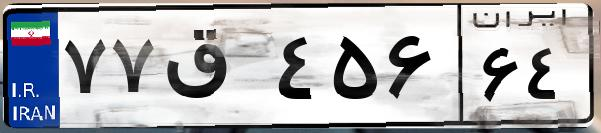4: (270, 28, 330, 110), (525, 38, 570, 115)
5: (330, 28, 385, 110)
6: (385, 28, 445, 110), (475, 38, 525, 113)
7: (57, 26, 110, 100), (110, 28, 158, 98)
ق: (158, 20, 270, 120)
